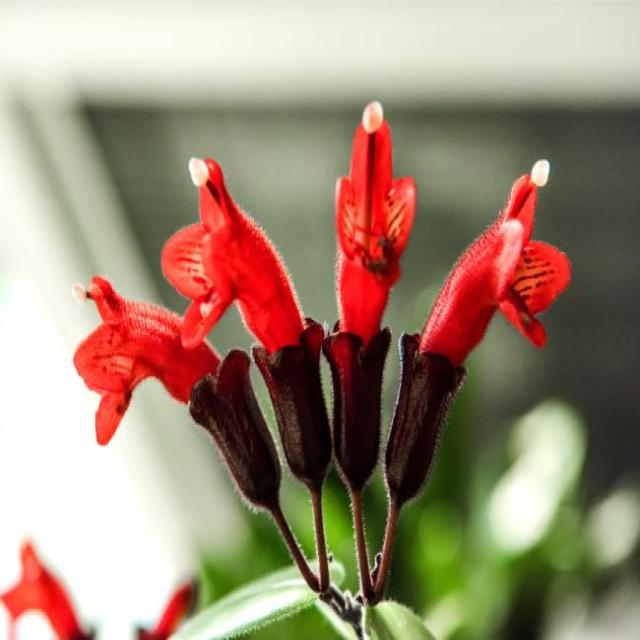Lipstick-Plant: (69, 95, 574, 518)
